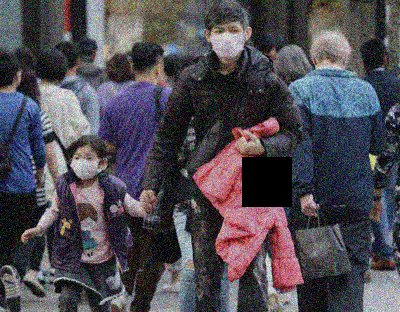with_mask: (208, 24, 247, 58), (69, 152, 99, 181)
